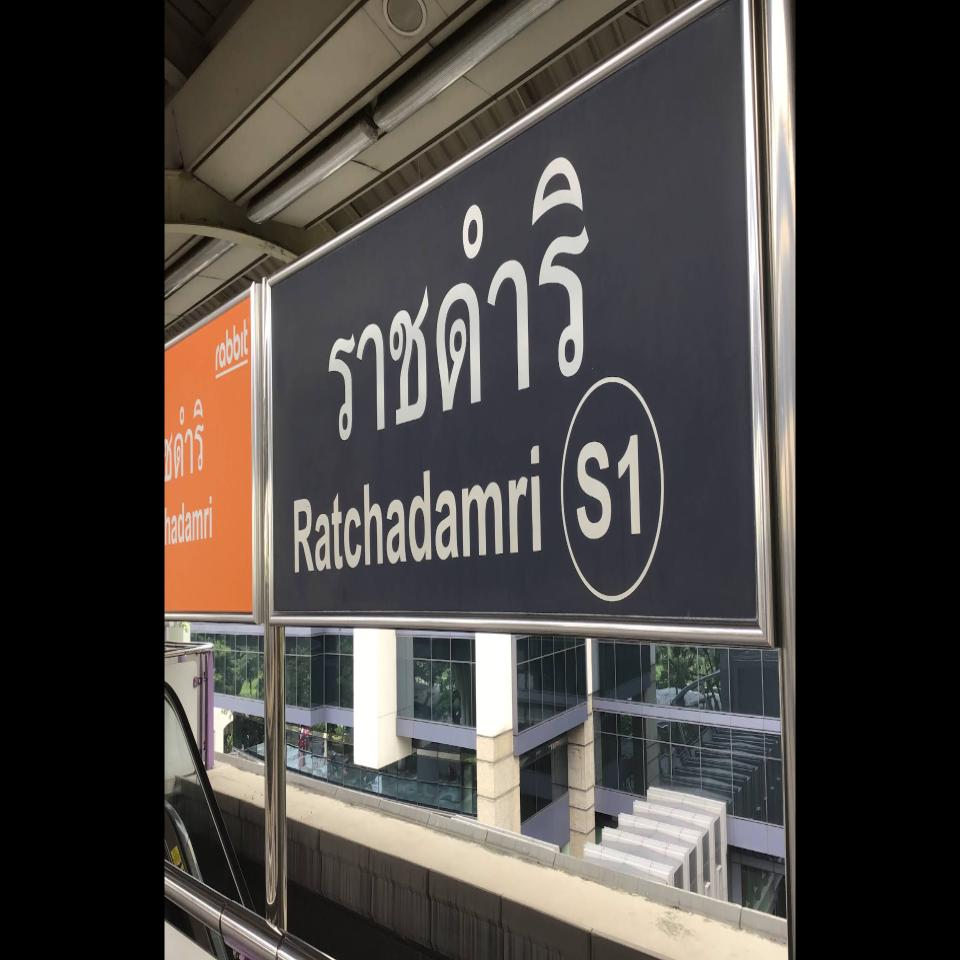signage: (263, 0, 778, 649)
